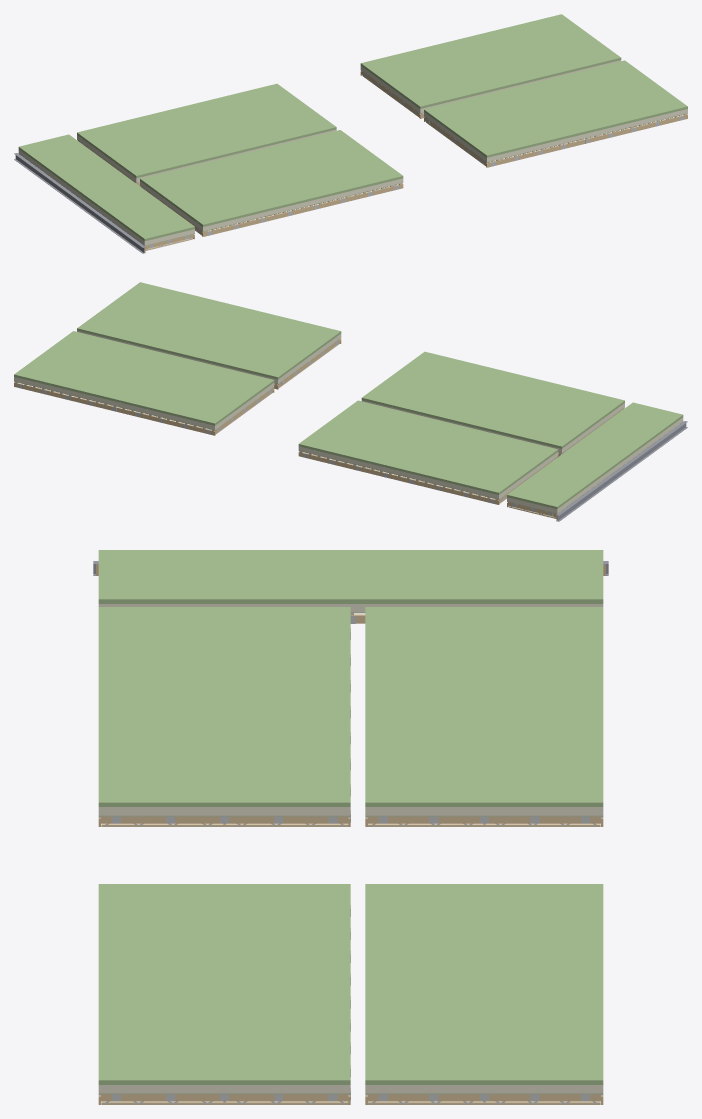
File: stage-4.glb
The picture shows the model from 3 angles, top to bottom: view 1: azimuth 30°, elevation 25°; view 2: azimuth 150°, elevation 25°; view 3: azimuth 270°, elevation 25°; orthographic projection. The views are drawn at different scales.
Visible parts, largest first — view 1: Geom3D (×7); view 2: Geom3D (×7); view 3: Geom3D (×6).
Boxes of the visible parts, x1,y1,x2,y2 form: Geom3D (×7): (14, 14, 687, 253); Geom3D (×7): (14, 282, 687, 521); Geom3D (×6): (98, 550, 603, 1104).
Size of the model in its own units: 24.5 by 0.5576 by 10.
